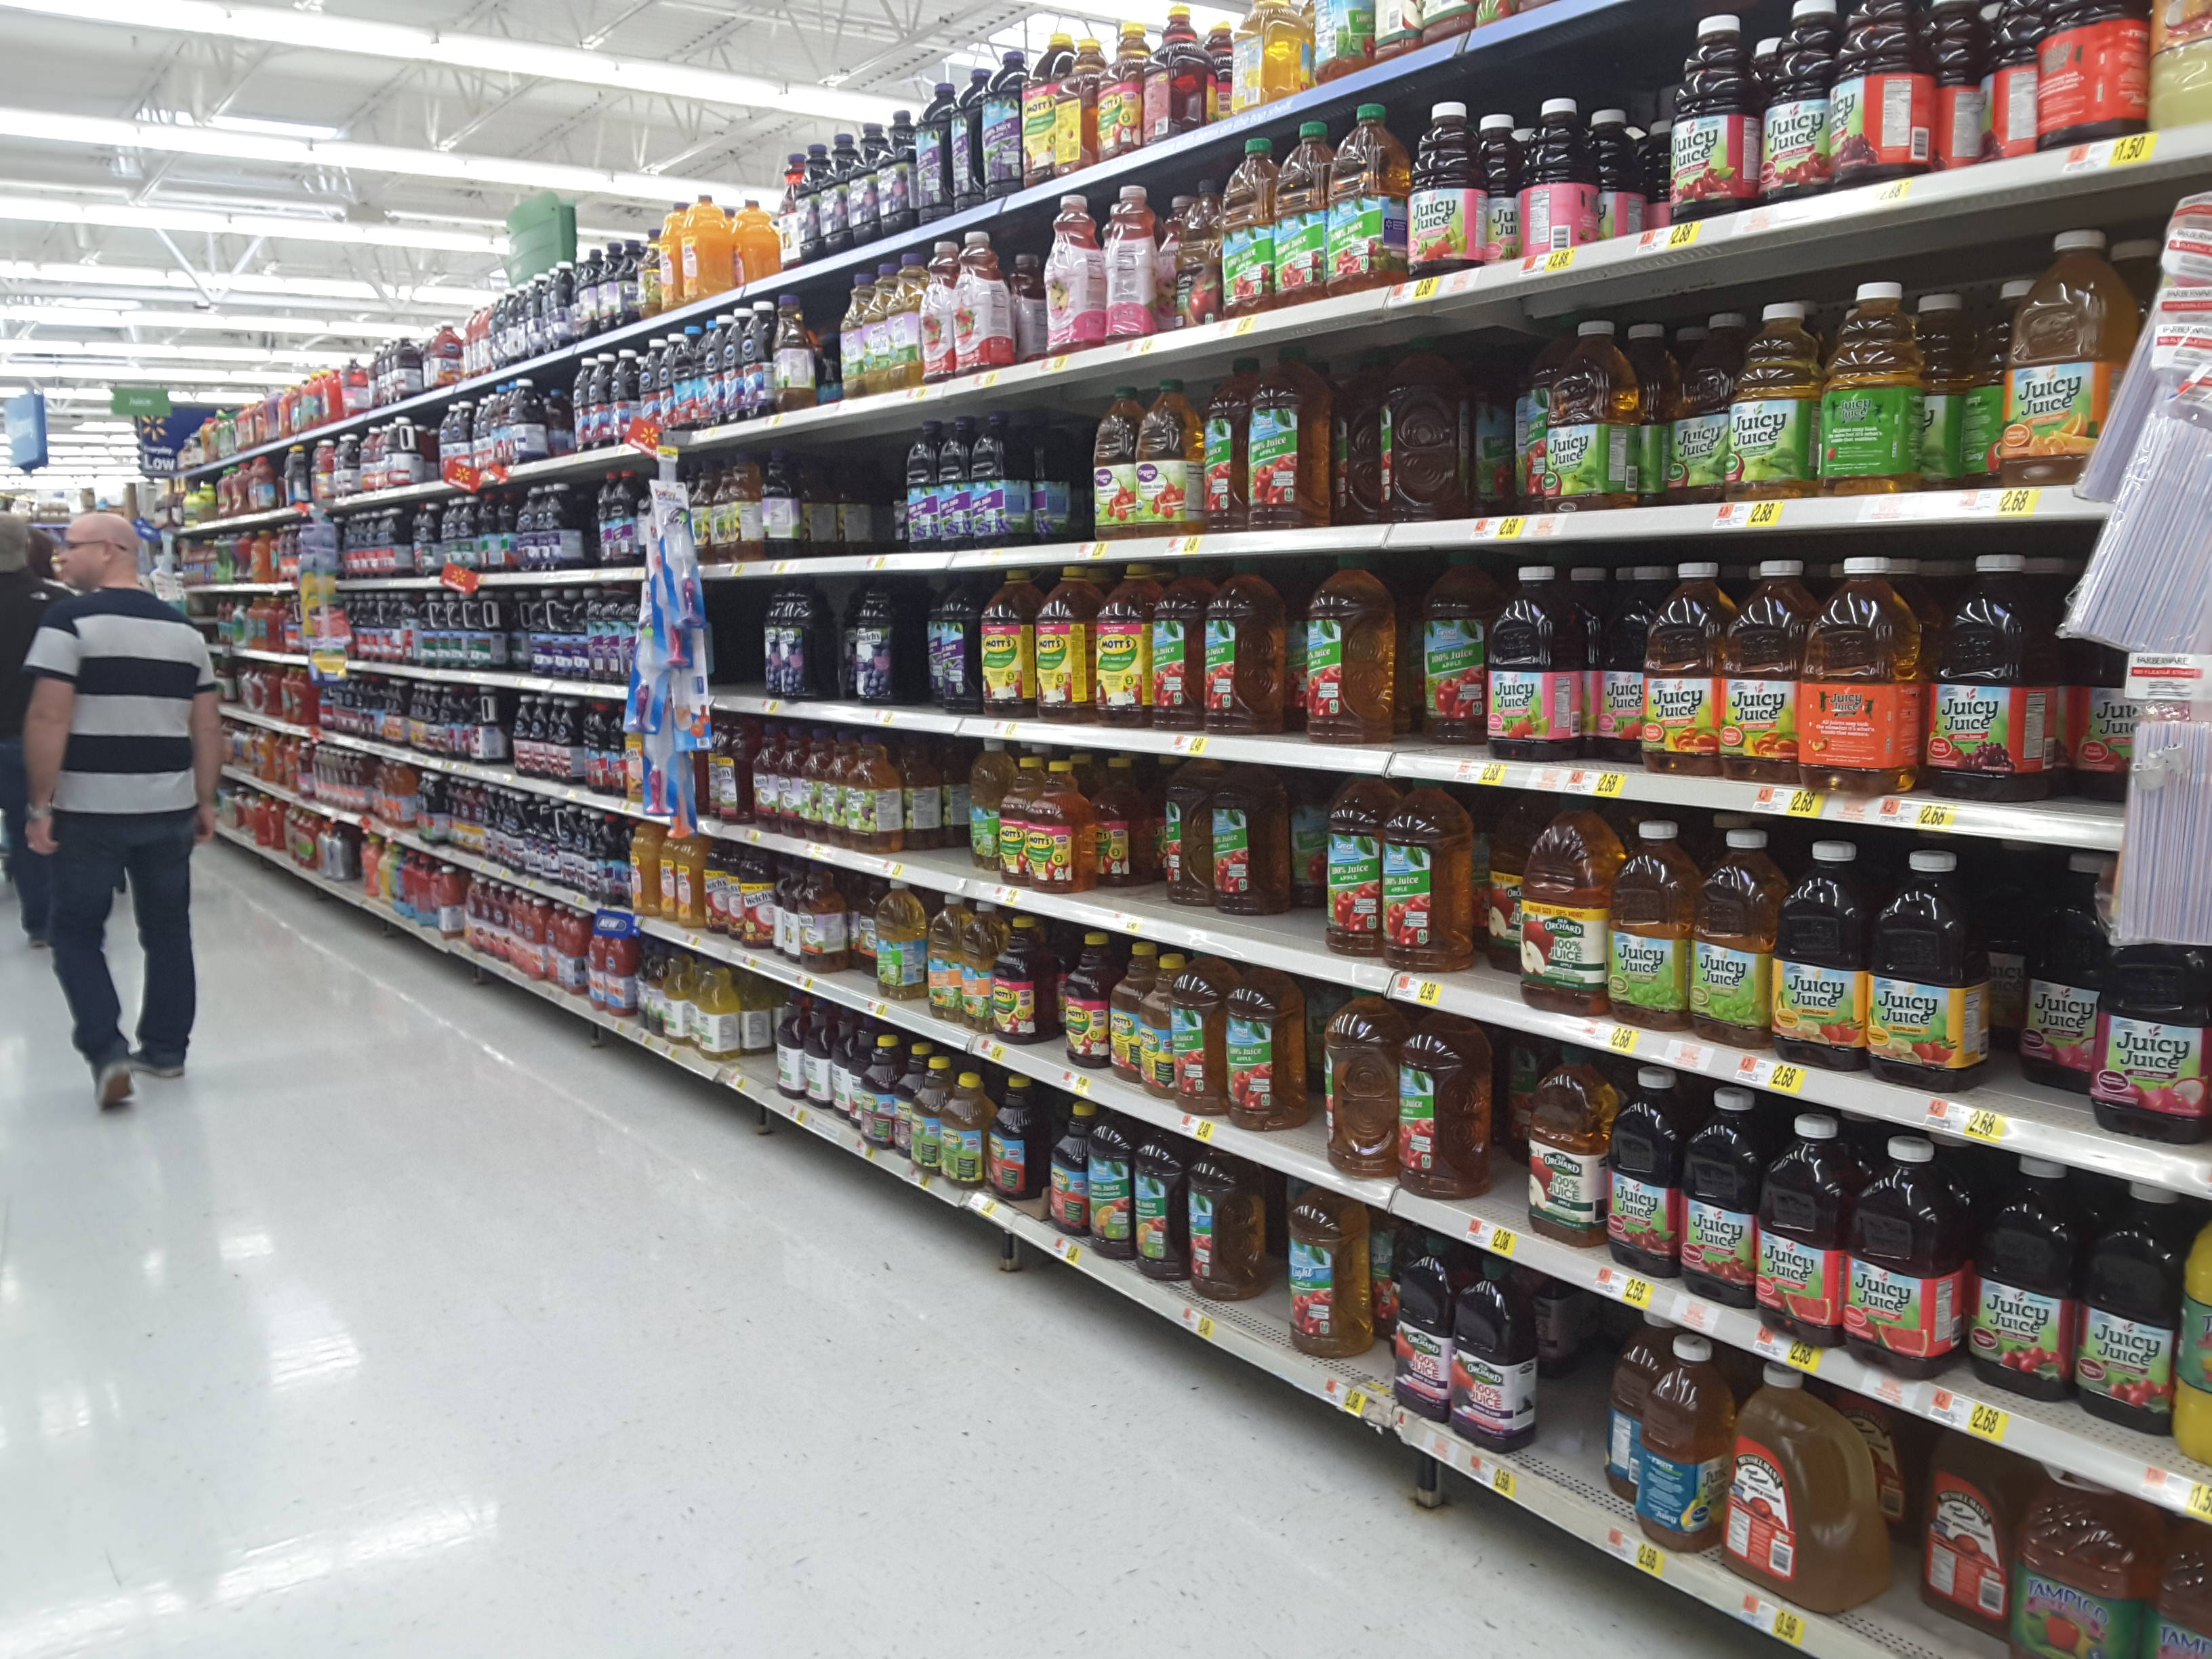Misplacement: (1944, 1154, 2174, 1473), (1055, 756, 1336, 941), (1959, 833, 2102, 1131), (1853, 1413, 2020, 1659), (1590, 312, 1745, 498), (1545, 566, 1658, 772), (1453, 784, 1522, 1004), (1468, 1025, 1538, 1241), (813, 870, 880, 986)
Out-of-stock: (1224, 1166, 1291, 1349), (880, 741, 968, 871), (714, 573, 765, 709)
